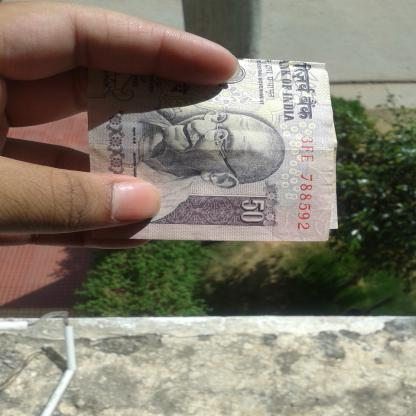Old50Front: (86, 58, 339, 243)
